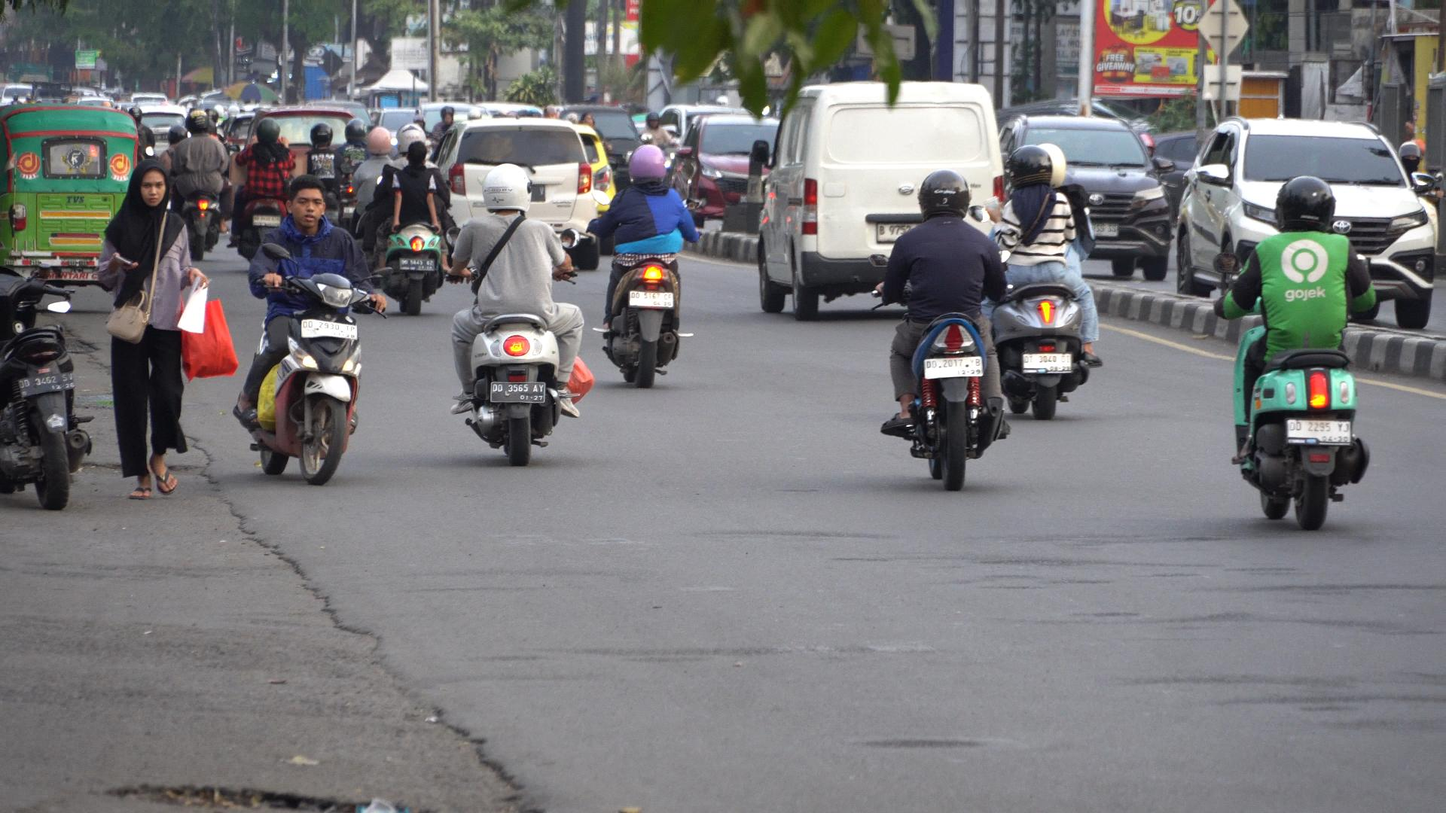number-plate: (296, 319, 359, 339)
